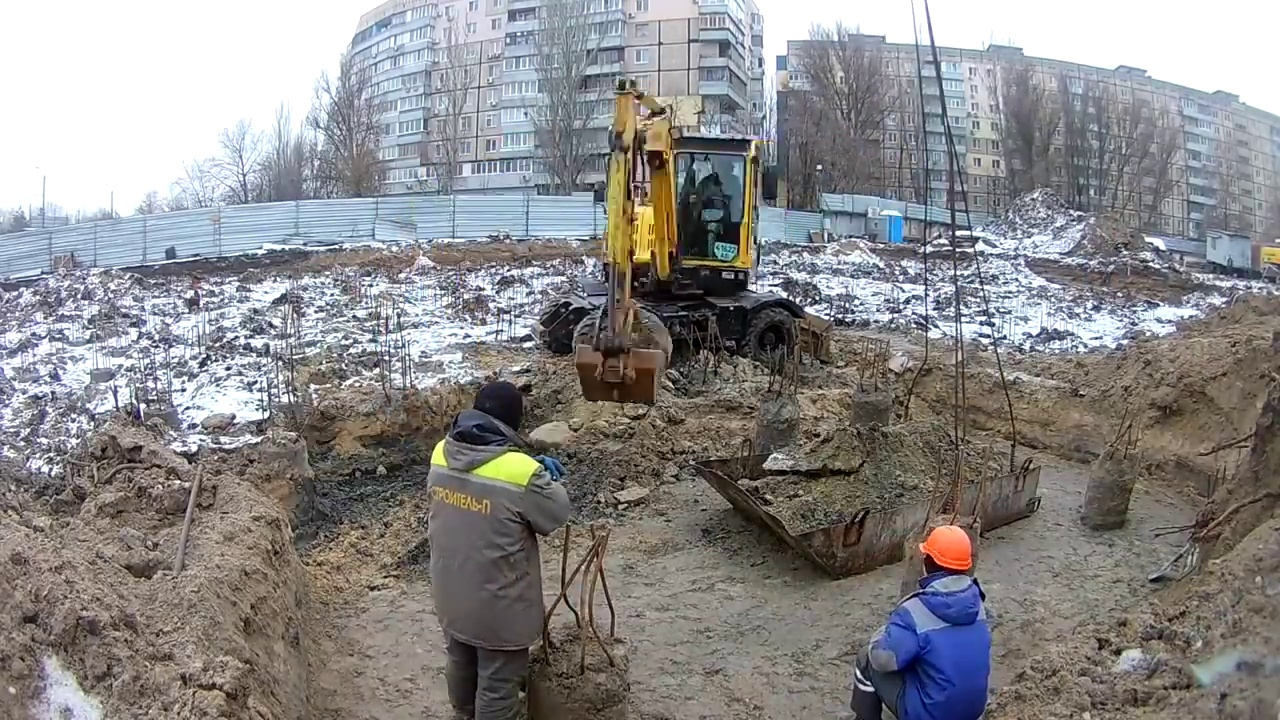helmet: (915, 522, 978, 571)
helmet-off: (457, 380, 529, 441)
helmet-on: (916, 523, 976, 600)
person: (429, 371, 569, 720), (850, 523, 996, 720)
